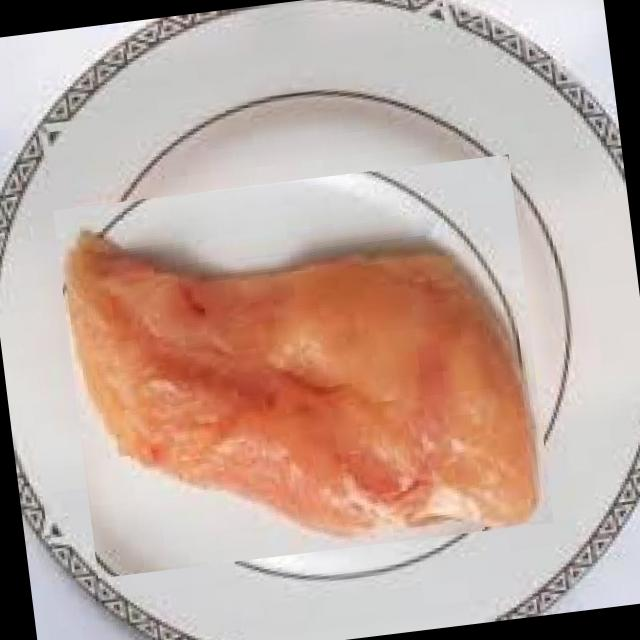chicken: (52, 154, 554, 578)
